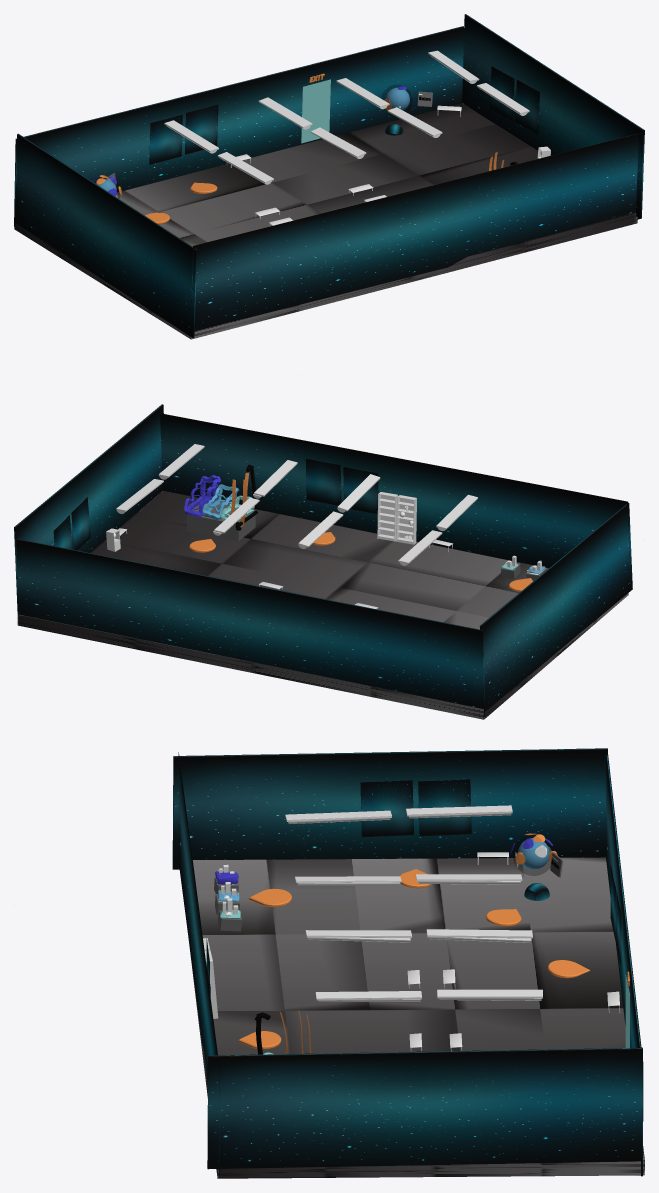
Rendered from DatenVis_Raum_A_E.fbx.
The picture shows the model from 3 angles, top to bottom: view 1: azimuth 30°, elevation 25°; view 2: azimuth 150°, elevation 25°; view 3: azimuth 270°, elevation 25°; orthographic projection. The views are drawn at different scales.
Visible parts, largest first — view 1: LODGroup_3_2, Cube_Clone__2, LODGroup_4, LODGroup_2_2, LODGroup, LODGroup_3, LODGroup_7, LODGroup_6, LODGroup_26, LODGroup_27, Spherabox_184, LODGroup_31 (+2 smaller); view 2: LODGroup_4, Cube_Clone__2, LODGroup_3_2, LODGroup_2_2, LODGroup, LODGroup_25, Cube_Clone_, LODGroup_24, Cuboard_153, Cuboard_153_2, LODGroup_26, SquareStroke_16 (+10 smaller); view 3: Cube_Clone__2, LODGroup, LODGroup_2_2, LODGroup_3_2, LODGroup_4, LODGroup_1, LODGroup_2, Spherabox_44, LODGroup_28, LODGroup_8, LODGroup_34, LODGroup_30 (+4 smaller).
Part boxes in pixels (x1,y1,x2,y2): LODGroup_3_2: (191,133,640,330); Cube_Clone__2: (14,103,637,339); LODGroup_4: (14,26,463,226); LODGroup_2_2: (14,133,197,338); LODGroup: (462,14,644,218); LODGroup_3: (301,79,330,143); LODGroup_7: (149,114,182,164); LODGroup_6: (185,104,218,154); LODGroup_26: (515,79,539,134); LODGroup_27: (490,66,514,121); Spherabox_184: (381,85,412,115); LODGroup_31: (311,127,366,157); LODGroup_4: (16,538,484,716); Cube_Clone__2: (17,491,628,719); LODGroup_3_2: (160,413,629,567); LODGroup_2_2: (479,503,632,712); LODGroup: (14,404,163,611); LODGroup_25: (306,458,341,505); Cube_Clone_: (186,503,255,541); LODGroup_24: (343,467,378,514); Cuboard_153: (377,492,397,541); Cuboard_153_2: (396,495,416,544); LODGroup_26: (71,497,90,550); SquareStroke_16: (184,475,220,517); Cube_Clone__2: (189,857,644,1178); LODGroup: (207,1047,642,1169); LODGroup_2_2: (172,748,607,869); LODGroup_3_2: (178,752,219,1176); LODGroup_4: (606,755,643,1176); LODGroup_1: (360,780,413,837); LODGroup_2: (418,779,471,836); Spherabox_44: (513,835,553,875); LODGroup_28: (437,989,542,998); LODGroup_8: (315,991,421,1000); LODGroup_34: (426,929,532,938); LODGroup_30: (406,805,512,816).
Size of the model in its own units: 2304 by 517 by 1984.
Materials: 9 (2 with a texture image).
